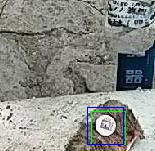text: (91, 111, 125, 144)
